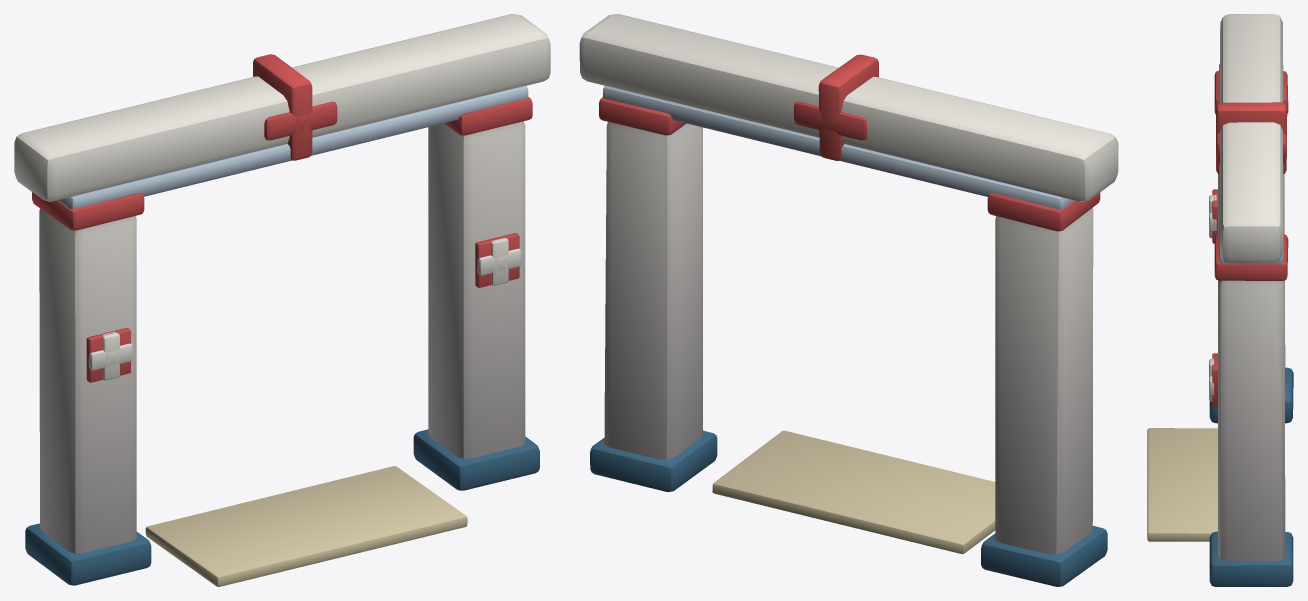
3 views of the same model, side by side, from view 1: azimuth 30°, elevation 25°; view 2: azimuth 150°, elevation 25°; view 3: azimuth 270°, elevation 25° (orthographic). The views are drawn at different scales.
Visible parts, largest first — view 1: gate_46e05050; view 2: gate_46e05050; view 3: gate_46e05050.
Part boxes in pixels (x1=…): gate_46e05050: x1=14, y1=14, x2=550, y2=586; gate_46e05050: x1=579, y1=14, x2=1118, y2=586; gate_46e05050: x1=1147, y1=14, x2=1293, y2=586.
Size of the model in its own units: 4.87 by 4.07 by 1.4.
